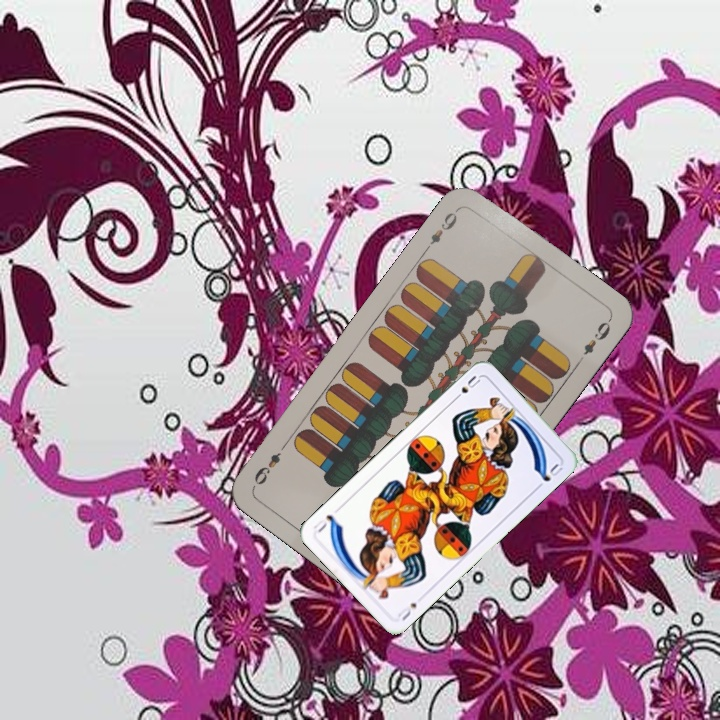E9: (420, 204, 462, 254)
SU: (449, 371, 483, 404), (393, 598, 419, 623)
